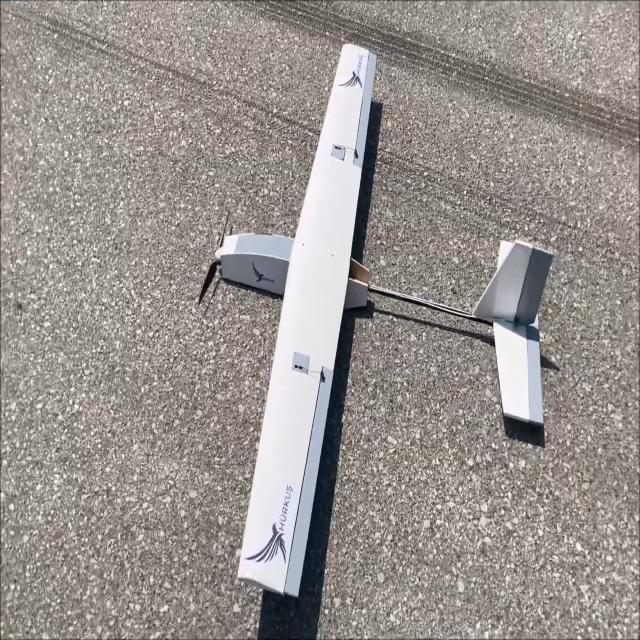iha: (183, 1, 632, 597), (291, 353, 311, 375)
